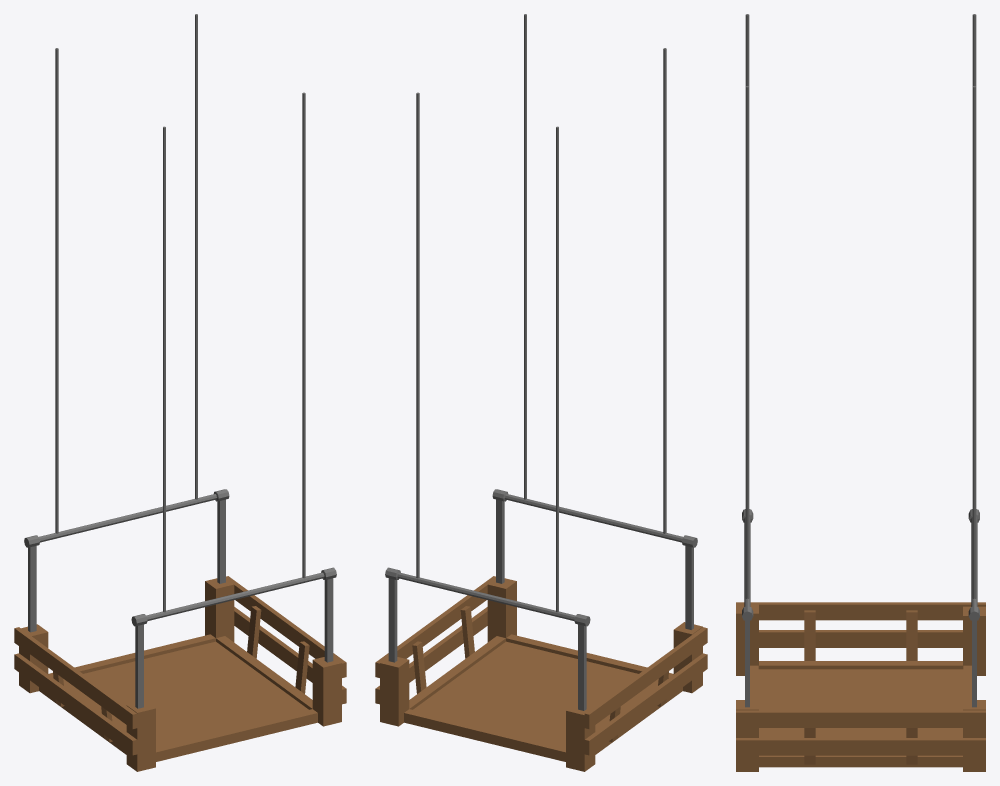
The model's file is elevator_platform.glb.
3 views of the same model, side by side, from view 1: azimuth 30°, elevation 25°; view 2: azimuth 150°, elevation 25°; view 3: azimuth 270°, elevation 25° (orthographic). The views are drawn at different scales.
Parts seen in each view (by area): view 1: Elevator; view 2: Elevator; view 3: Elevator.
Boxes of the visible parts, bbox=[...] form: Elevator: bbox=[14, 14, 346, 771]; Elevator: bbox=[375, 14, 707, 771]; Elevator: bbox=[736, 14, 985, 771].
Size of the model in its own units: 4.6 by 13 by 4.4.
